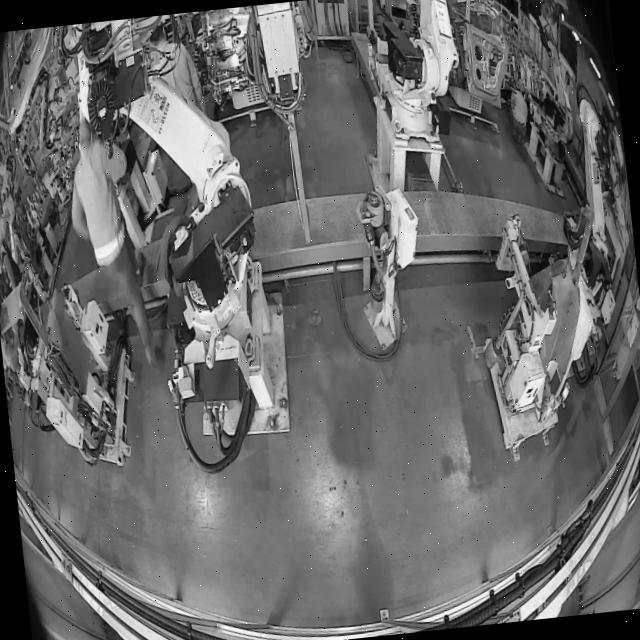Person: (60, 108, 160, 372), (146, 18, 208, 120)
